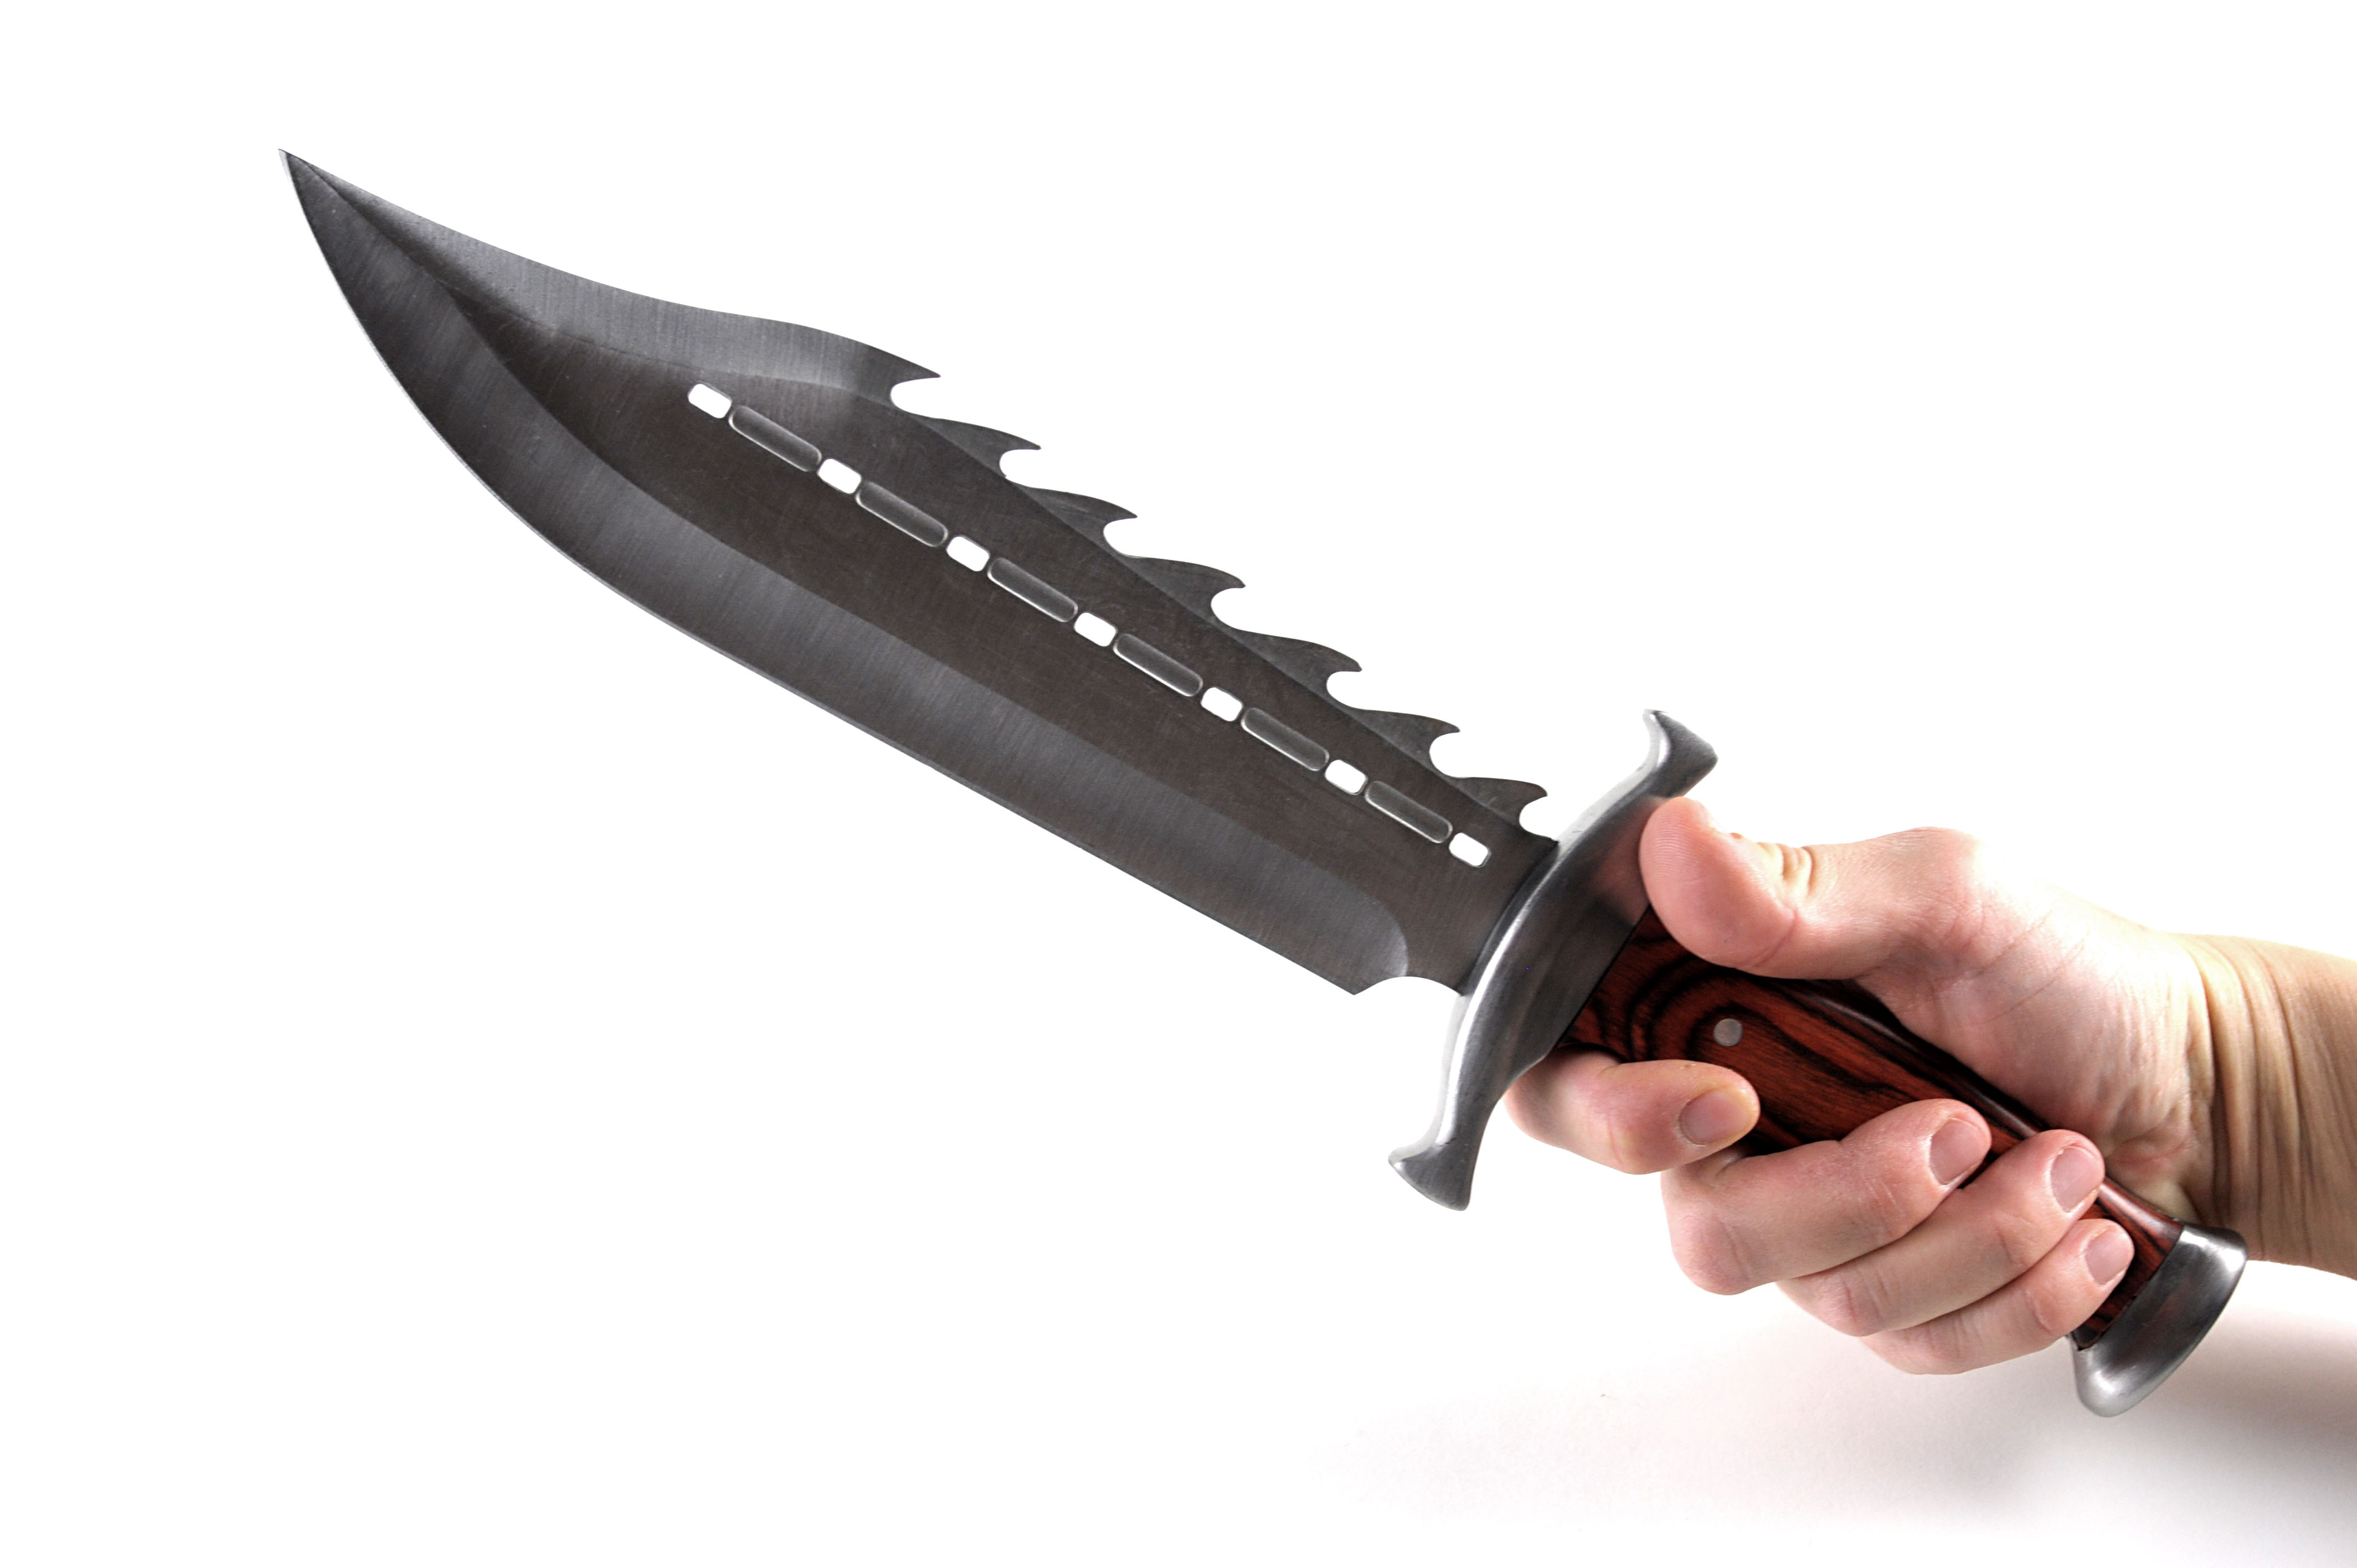knife: (271, 105, 2154, 1311)
